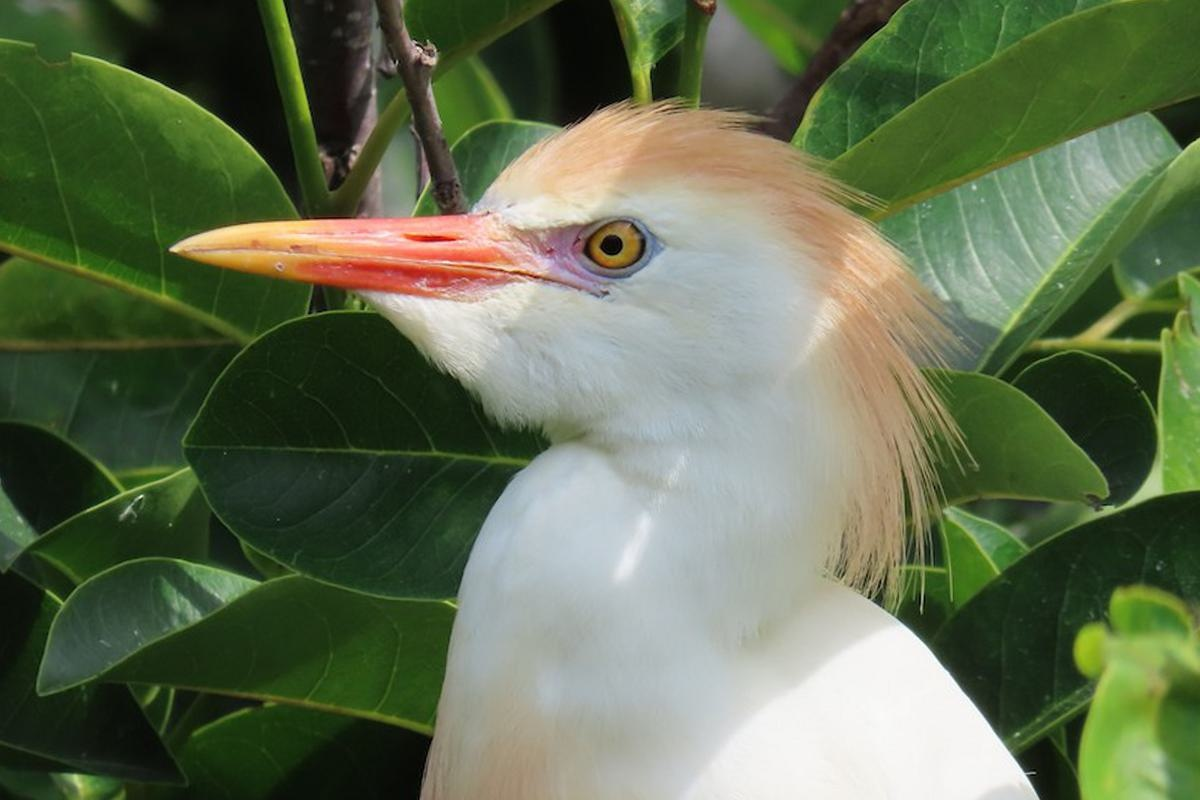egret: (166, 102, 1040, 800)
